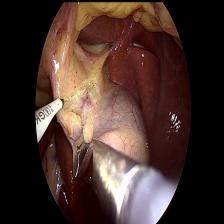Grasper: (72, 124, 92, 176)
Hook: (32, 91, 65, 142)
